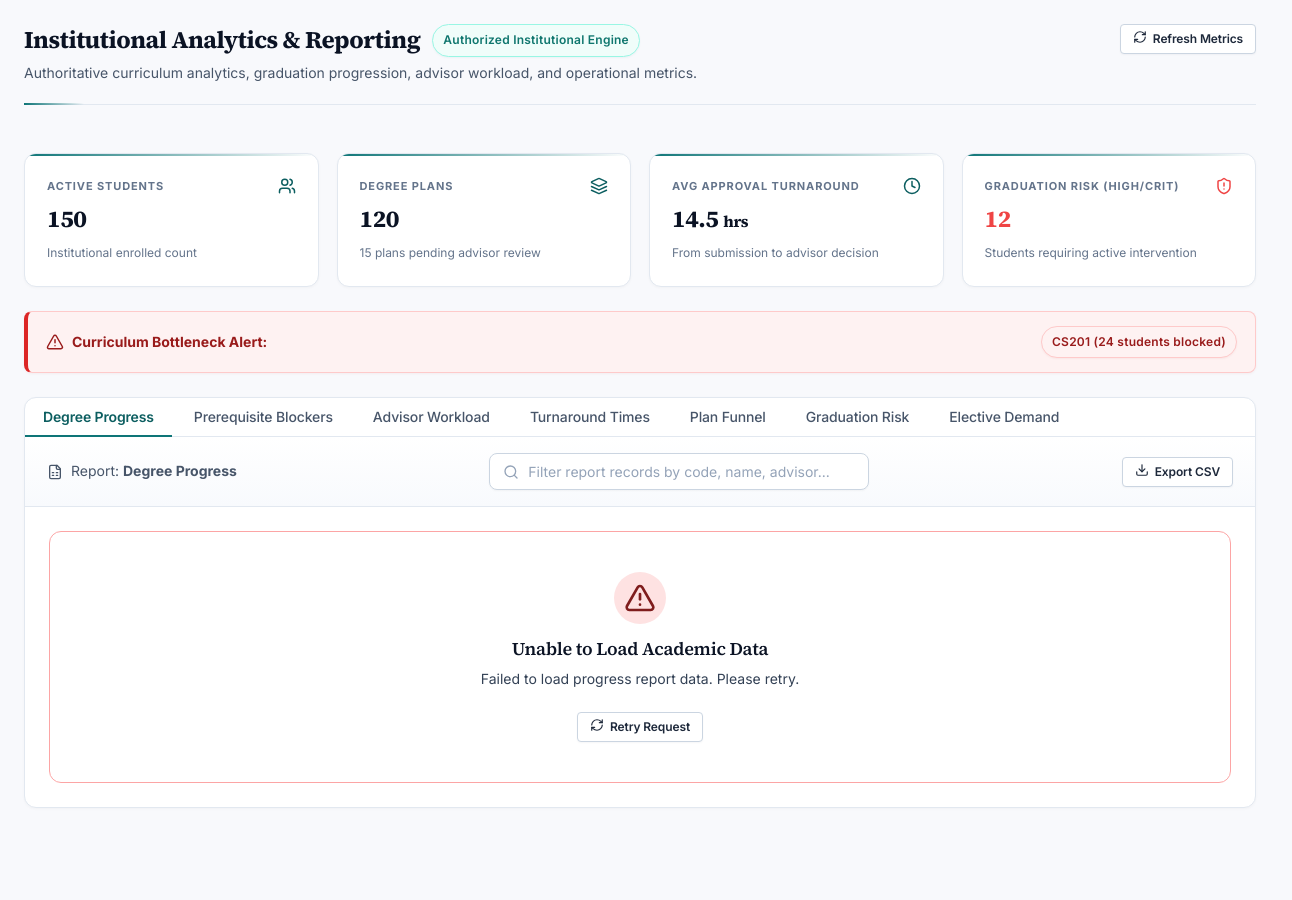
Scenario: AnalyticsDashboardPage › handles report loading error with retry button
Expected: the text "Failed to load progress report data. Please retry." is shown, [481, 667, 799, 692]
Click the button "Retry Request". click: [640, 727]
box: [577, 712, 703, 742]
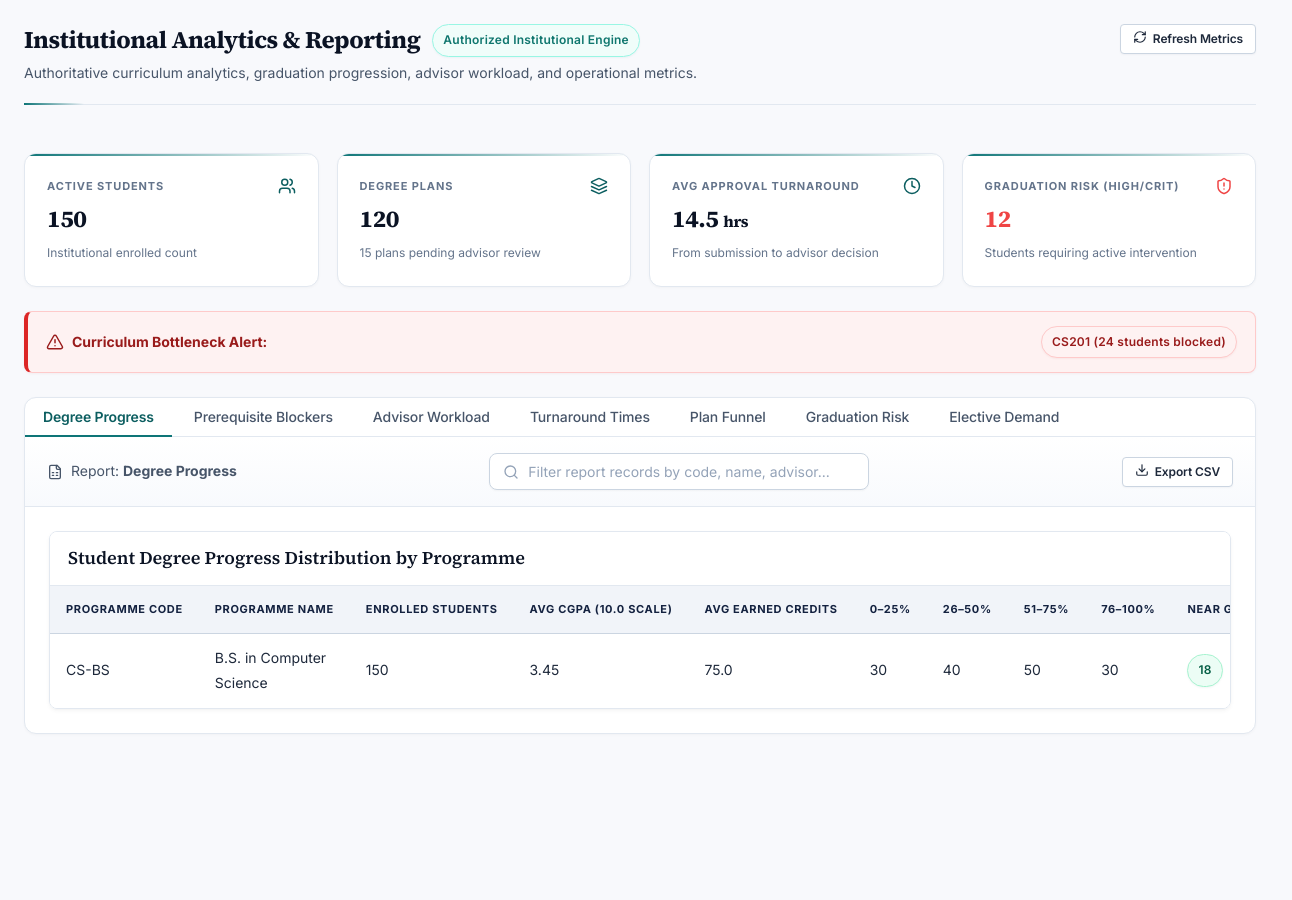
Result: the text "CS-BS" is shown at [50, 634, 199, 708]
